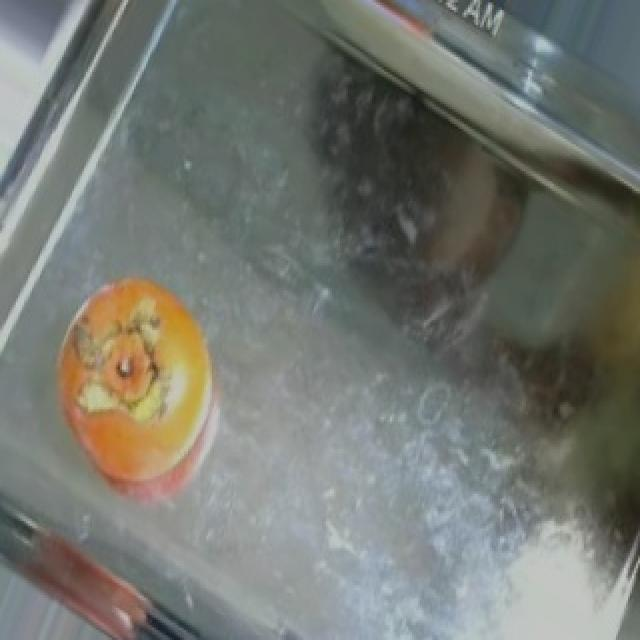Fruit: (26, 256, 242, 511)
